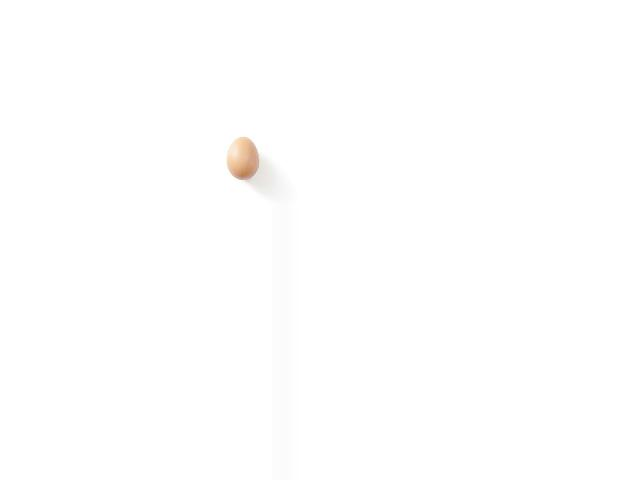egg: (226, 136, 258, 180)
